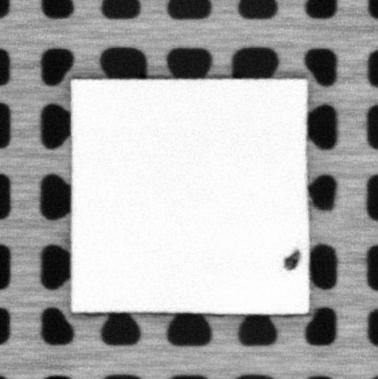DIE_INK: (281, 247, 303, 272)
